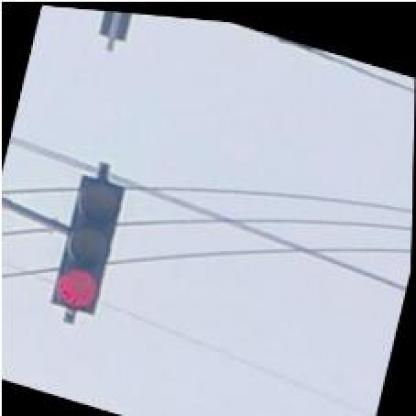red: (50, 169, 126, 315)
